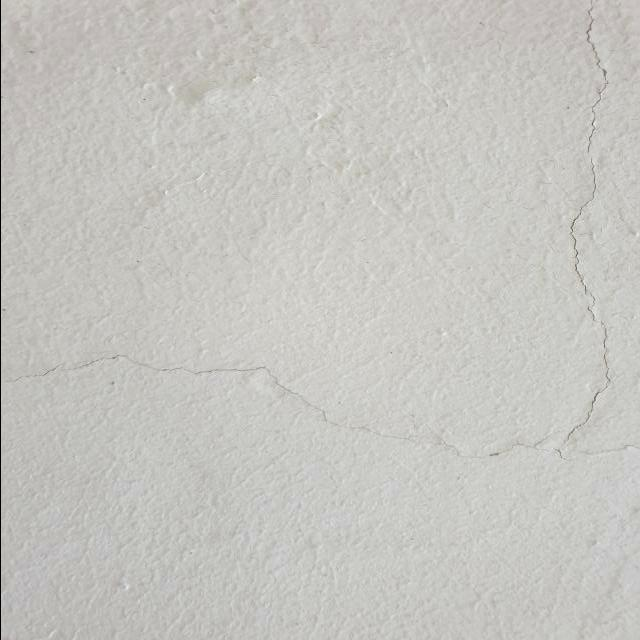SurfaceCrack: (0, 306, 637, 481)
